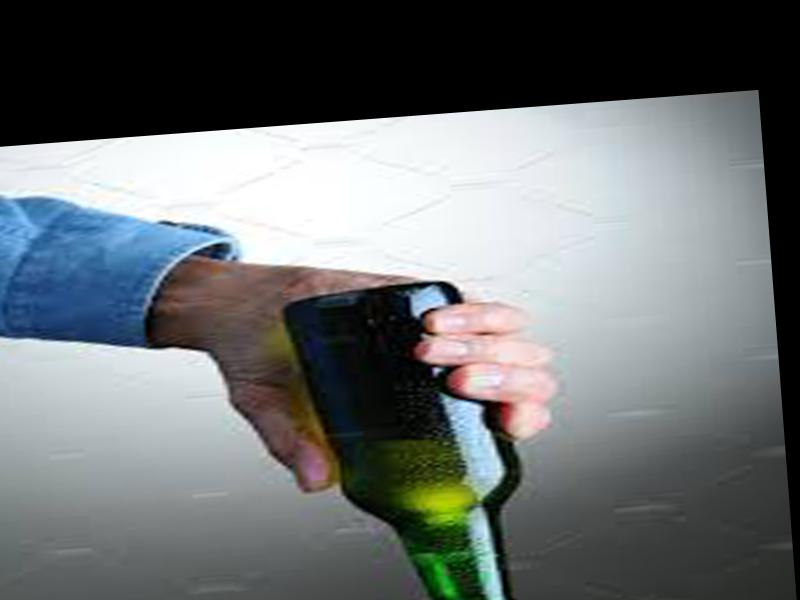Beer: (277, 277, 543, 600)
